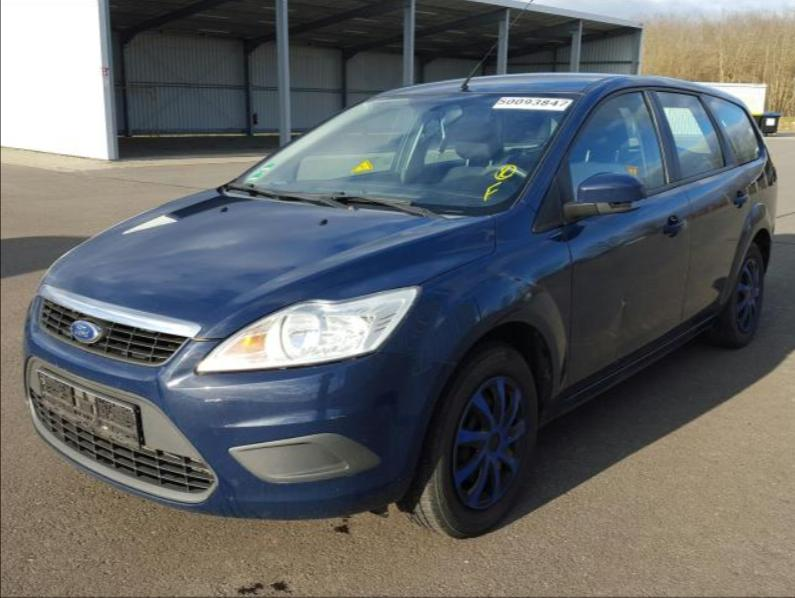Broken part: (578, 171, 648, 215)
Dent: (482, 277, 539, 316), (600, 297, 631, 359)
Missing part: (38, 371, 137, 450)
